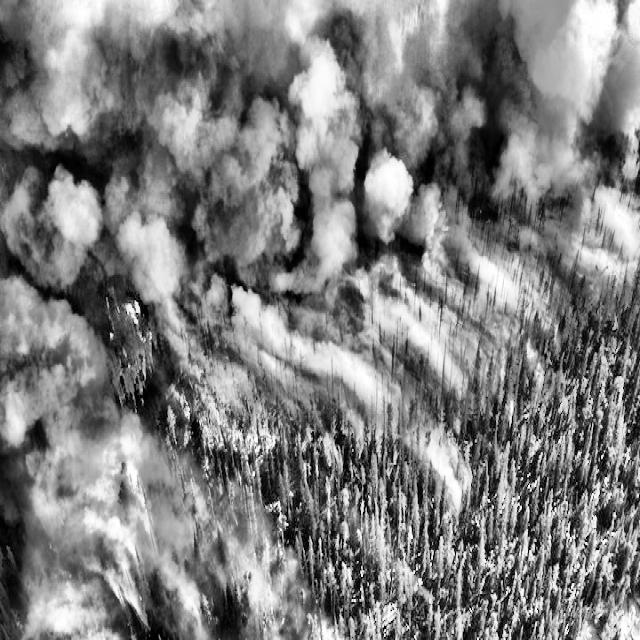fire: (68, 253, 632, 506)
